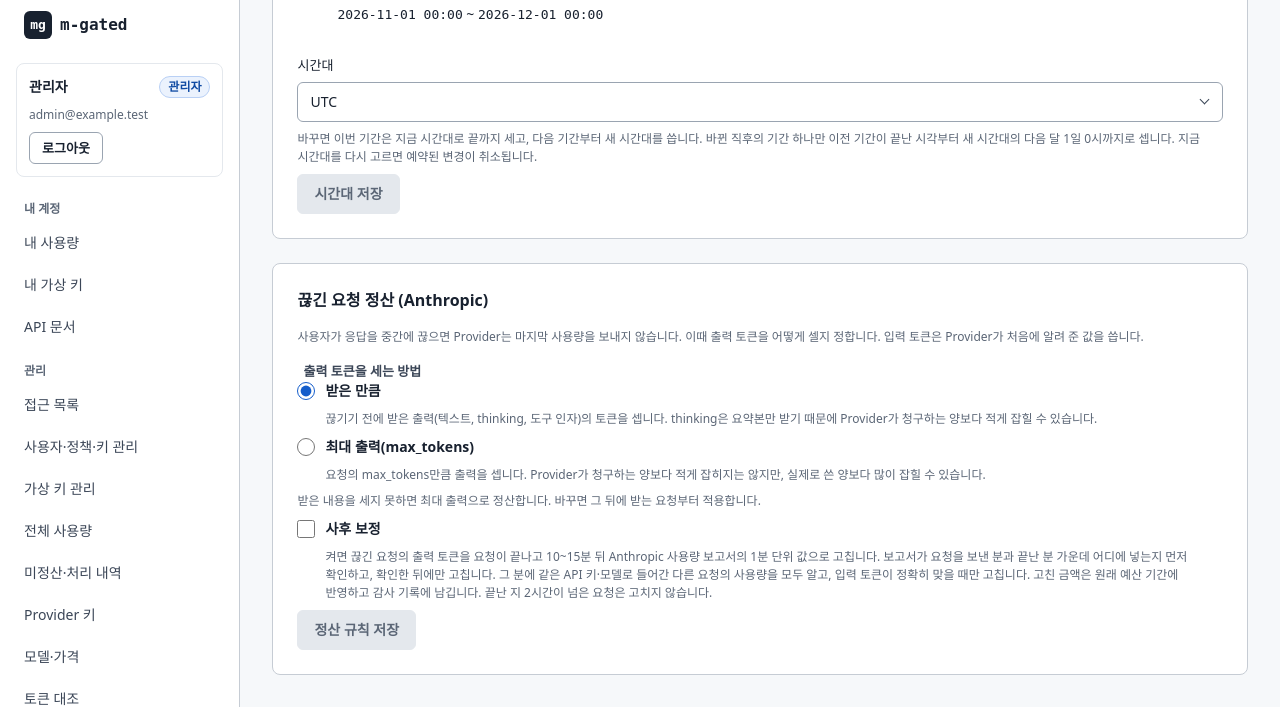
Test case: cut_off_rule_form_saves_the_correction_switch
(page scrolled)
Check: the button "정산 규칙 저장" is disabled, box [298,610,416,650]
Step 1. Click the checkbox labelled "사후 보정" → (306,529), box [298,520,316,538]
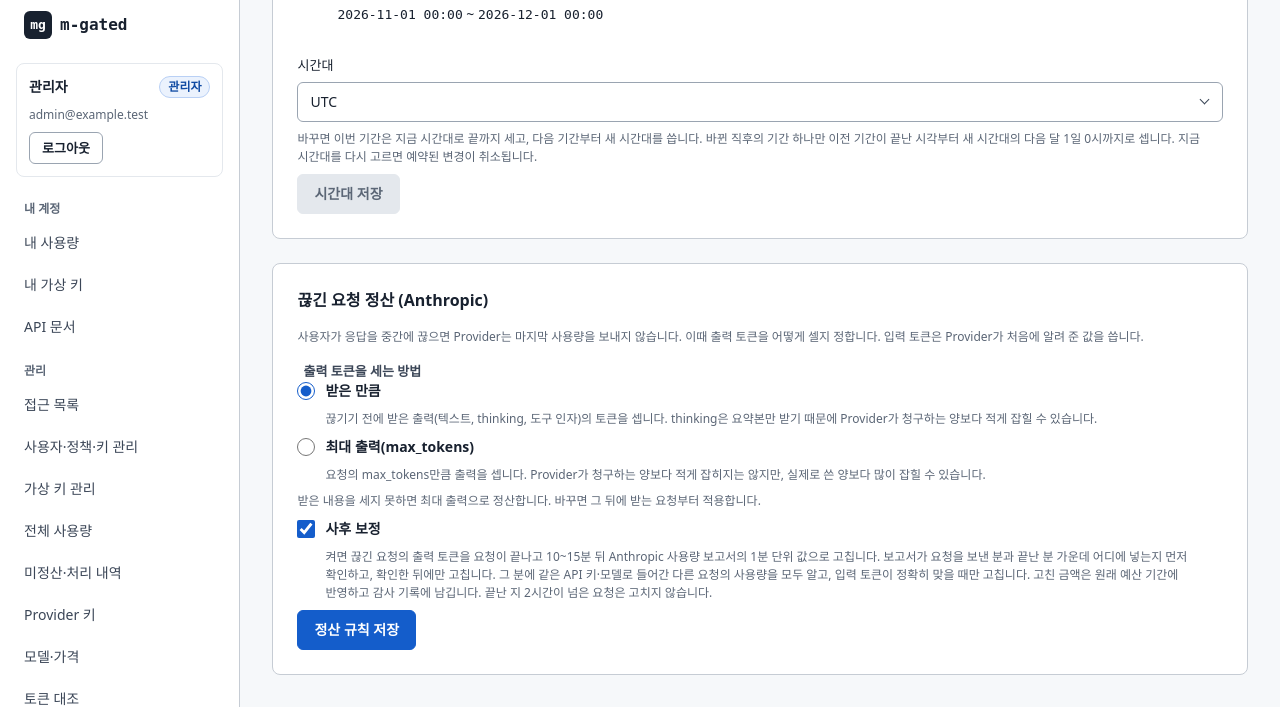
Check: the button "정산 규칙 저장" is enabled
Step 2. Click the button "정산 규칙 저장" → (357,630), box [298,610,416,650]
(page scrolled)
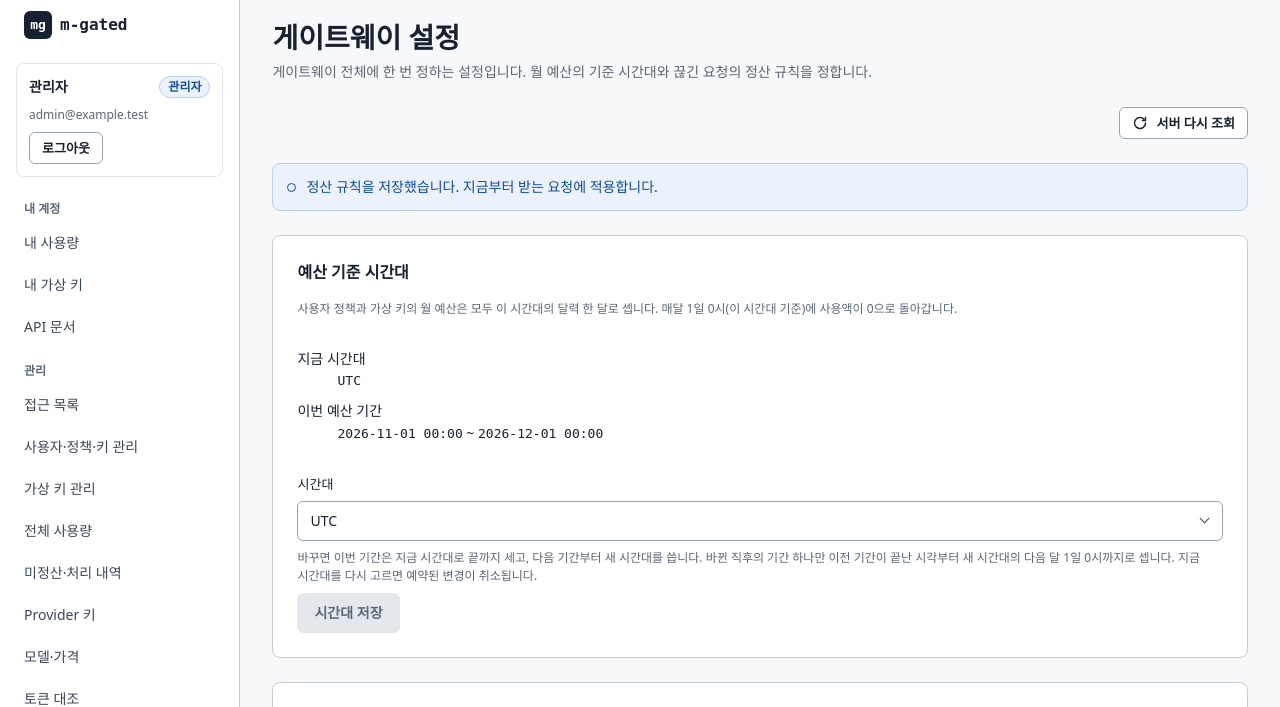
Check: the text "정산 규칙을 저장했습니다. 지금부터 받는 요청에 적용합니다." is shown, box [272,163,1248,211]
